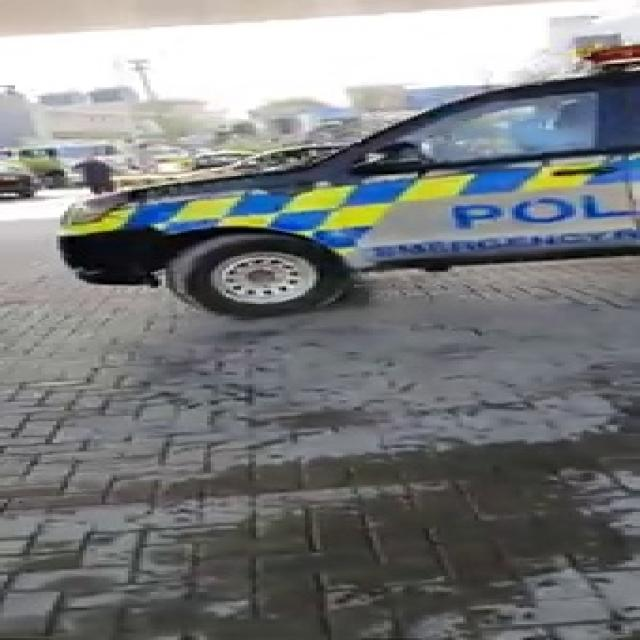police: (26, 6, 640, 317)
